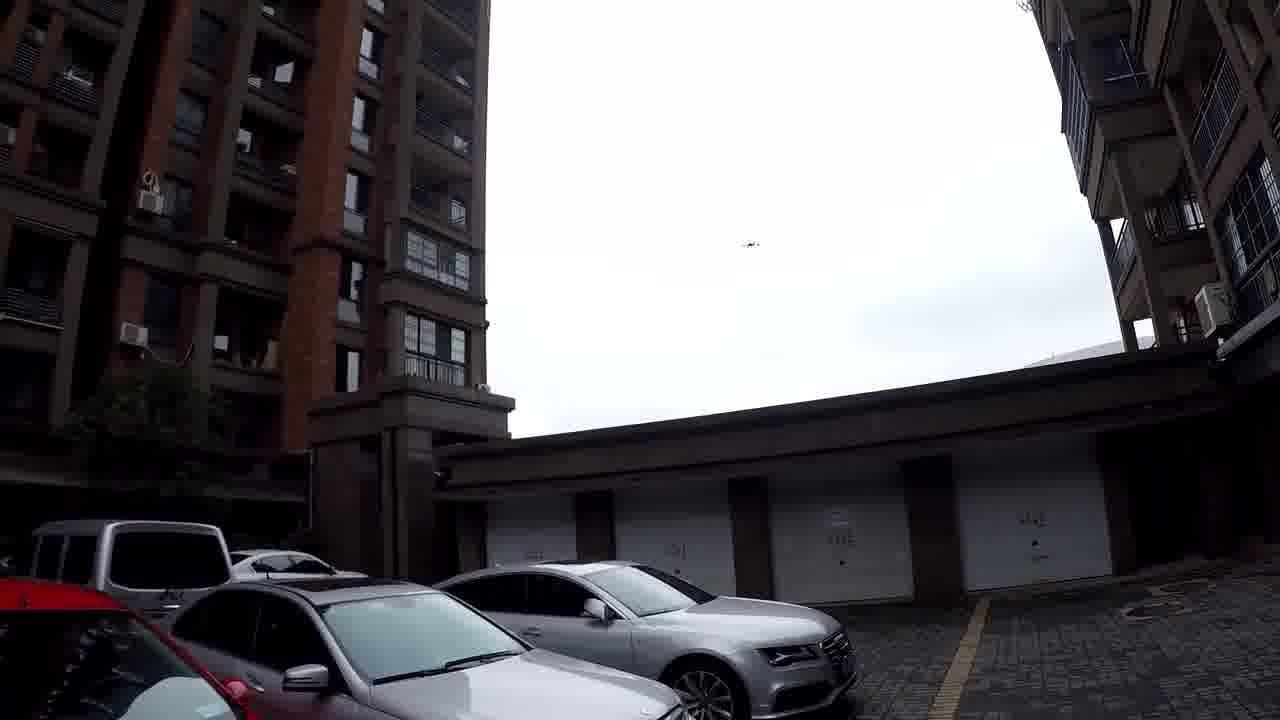drone: (717, 207, 764, 264)
